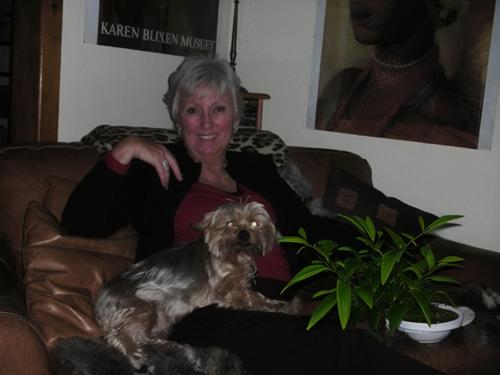dog: (93, 200, 295, 369)
person: (60, 58, 445, 374)
person/hand: (125, 136, 183, 189)
person/head: (167, 54, 241, 155)
pottedplant: (280, 215, 464, 330)
sofa: (2, 142, 500, 373)
